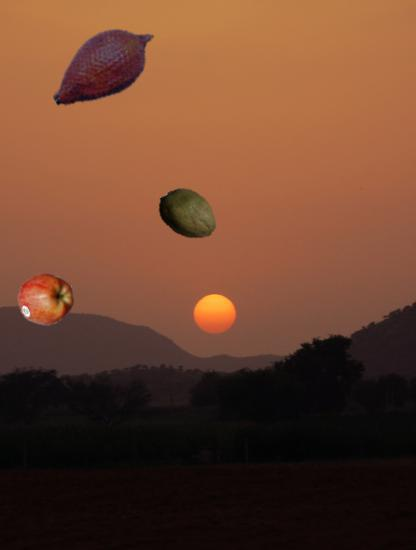Apple: (18, 271, 75, 328)
Papaya: (158, 185, 218, 245)
Salak: (44, 6, 165, 127)
